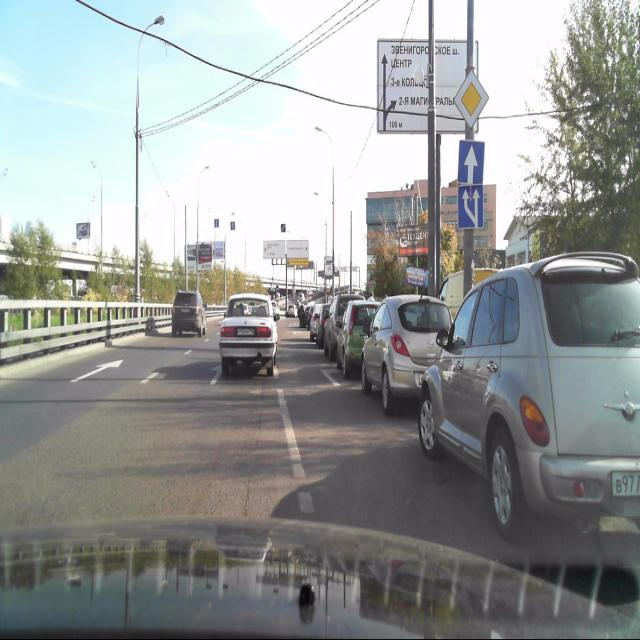road sign: (452, 71, 488, 129), (458, 137, 485, 186), (456, 185, 484, 232)
